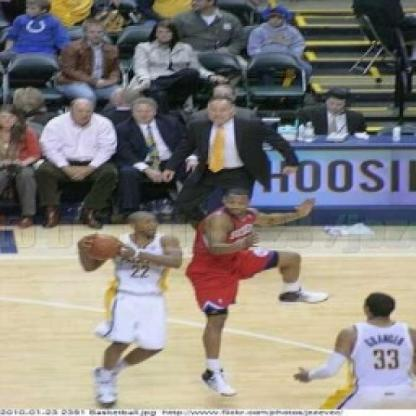basketball: (81, 231, 124, 268)
